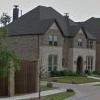Chimney: (6, 3, 19, 26)
